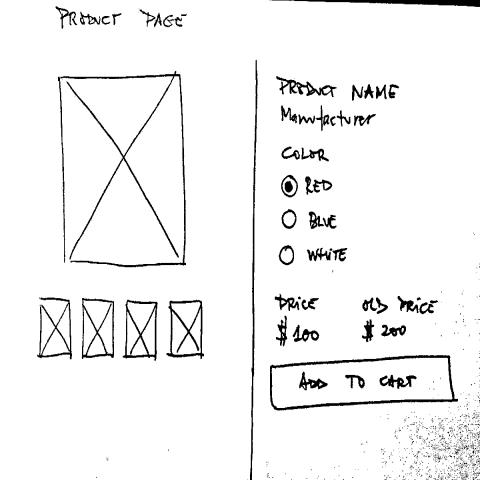Button: (268, 354, 460, 412)
Image: (58, 72, 189, 269), (39, 294, 74, 362), (80, 298, 116, 363), (168, 299, 205, 361), (124, 298, 159, 361)
Radio Button: (279, 172, 338, 201), (283, 205, 338, 234), (280, 244, 350, 266)
